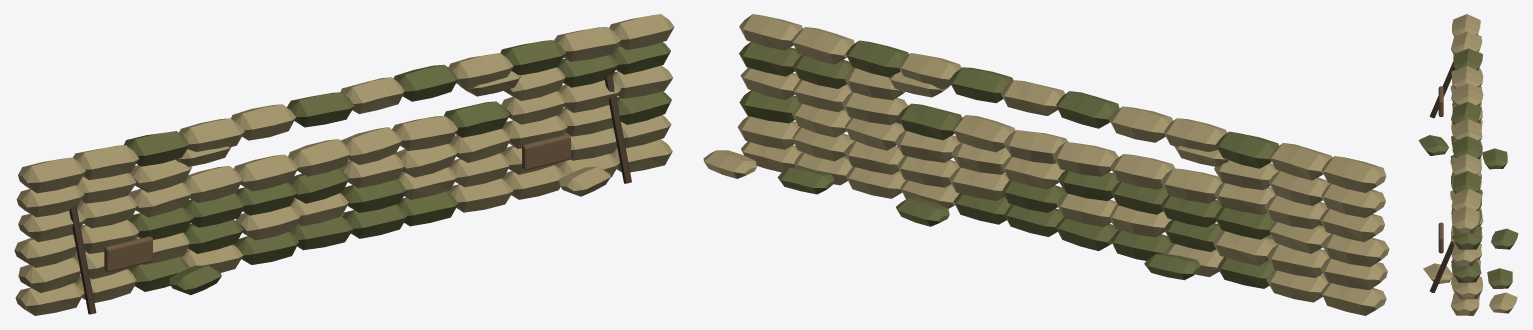
File: sandbag_wall.glb
3 renders of one model, left to right at view 1: azimuth 30°, elevation 25°; view 2: azimuth 150°, elevation 25°; view 3: azimuth 270°, elevation 25°, orthographic. The views are drawn at different scales.
Visible parts, largest first — view 1: sandbag_wall; view 2: sandbag_wall; view 3: sandbag_wall.
Part boxes in pixels (left/top/right/bottom): sandbag_wall: left=14, top=14, right=674, bottom=315; sandbag_wall: left=703, top=14, right=1389, bottom=315; sandbag_wall: left=1418, top=14, right=1518, bottom=315.
Size of what is drawn, in the model's own units: 6.15 by 1.32 by 1.21.
2 materials, 2 textured.
